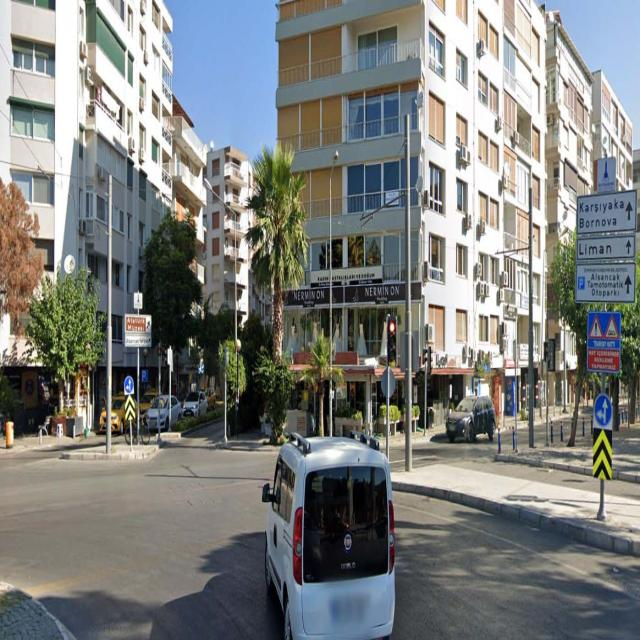ilerisol: (593, 392, 610, 427), (125, 377, 132, 392)
kirmizi: (388, 318, 396, 366)
park: (142, 371, 146, 383)
